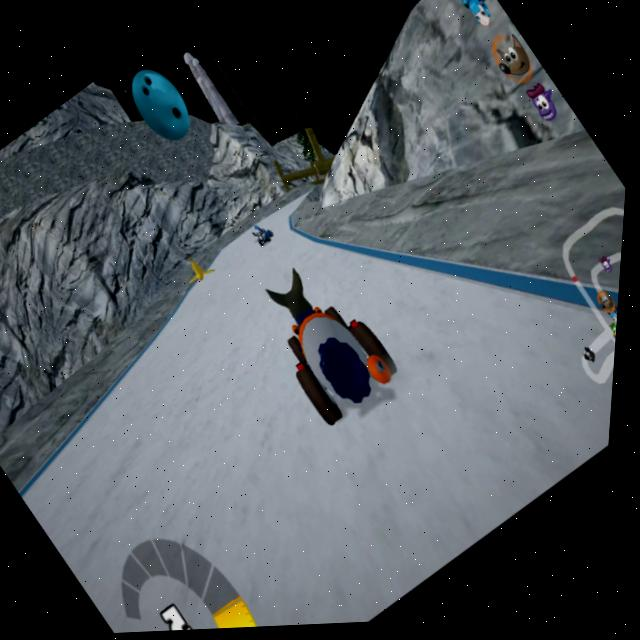enemy_kart: (250, 221, 282, 256)
obstacle: (180, 255, 225, 300)
off_track: (288, 44, 518, 256), (0, 179, 185, 399)
player_kart: (235, 246, 433, 459)
track: (89, 308, 327, 540)
